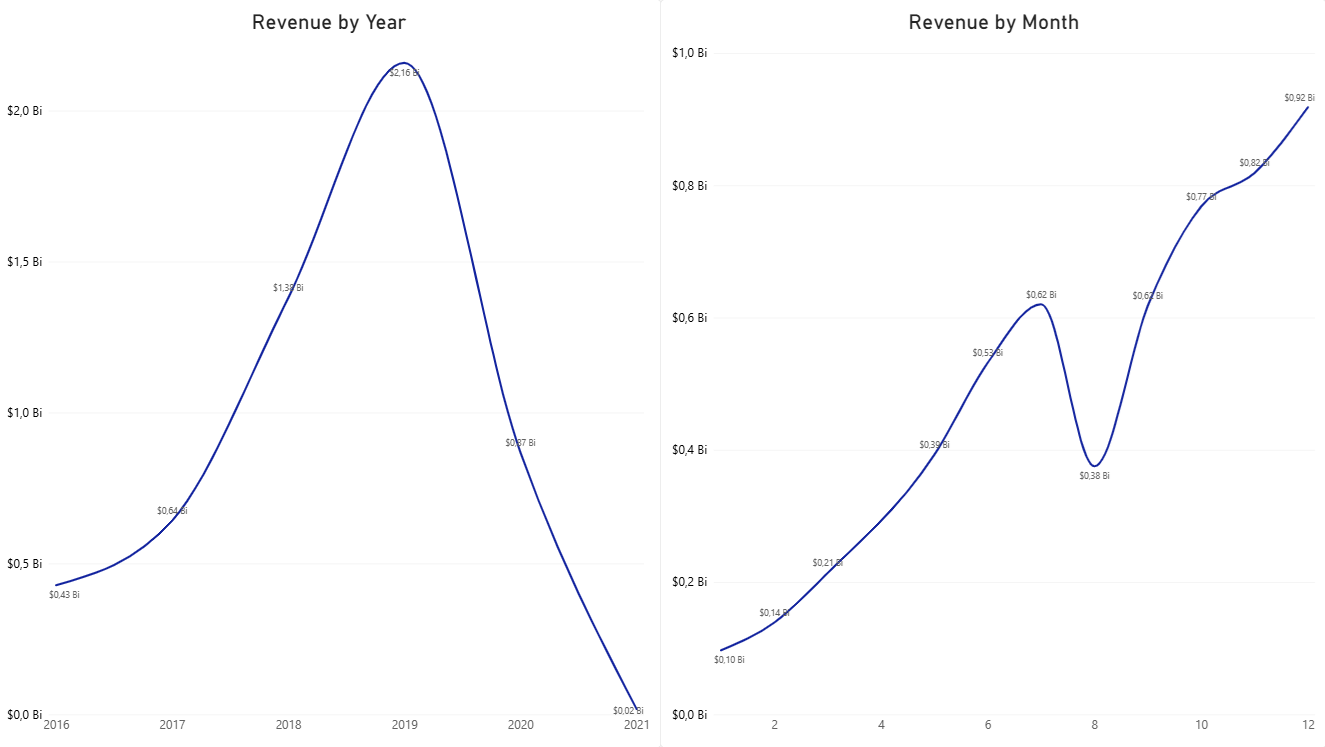

What the dashboard file says about the page in this screenshot:
{"tool":"powerbi","page":{"name":"Revenue Trends","canvas":[1920,1080],"ordinal":1},"visuals":[{"type":"lineChart","title":"Revenue by Year","fields":{"Category":["Sales.Ano"],"Y":["Sum(Sales.Receita)"]},"box":[0,0,960.8,1080.3],"z":0},{"type":"lineChart","title":"Revenue by Month","fields":{"Category":["Sales.Mês"],"Y":["Sum(Sales.Receita)"]},"box":[959.2,0,960.8,1080.3],"z":1000}]}

Visuals, with their boxes in screenshot pixels (x1, y1, x2, y2), scaled from the page's 1920x1080 canvas onto the 1325x747 screenshot:
"Revenue by Year" lineChart: x1=0 y1=0 x2=663 y2=746
"Revenue by Month" lineChart: x1=662 y1=0 x2=1324 y2=746
